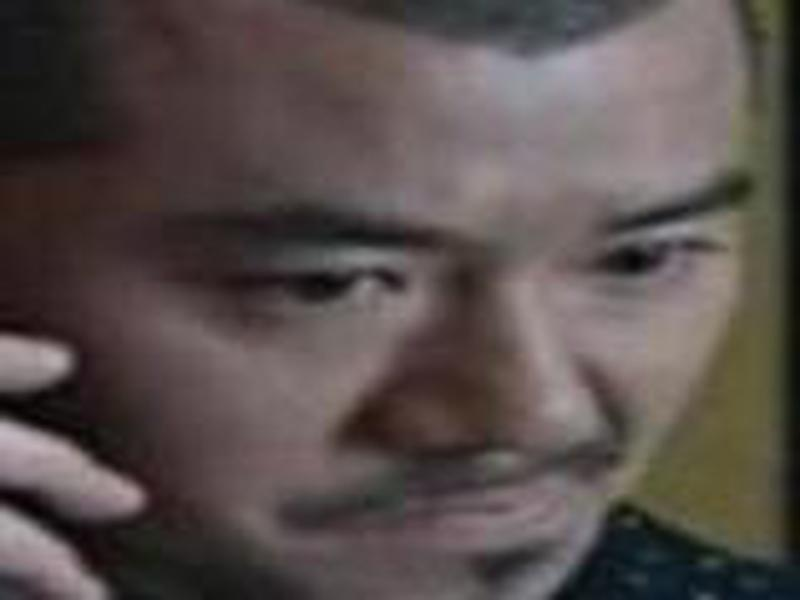without_mask: (21, 21, 753, 597)
